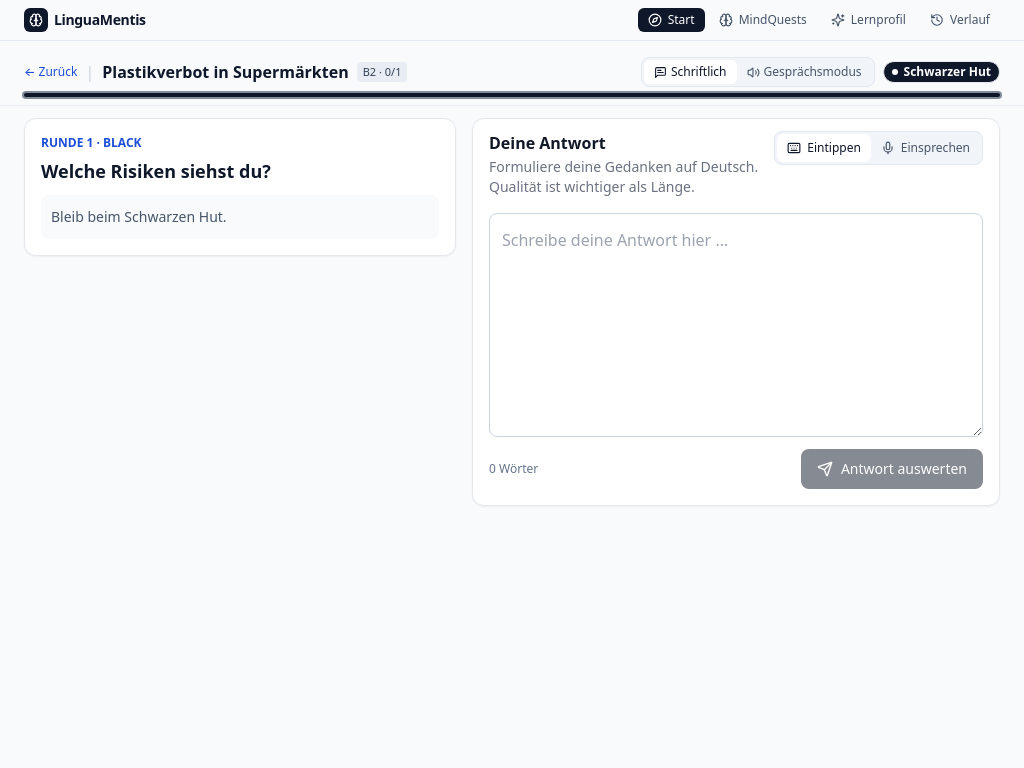
Scenario: MindQuestPage interactive flow › restores draft and displays error message when submitting a response fails
In the text box with placeholder "Schreibe deine Antwort hier …": (736, 325) left=489, top=213, right=983, bottom=437, type "Entwurf bleibt erhalten"
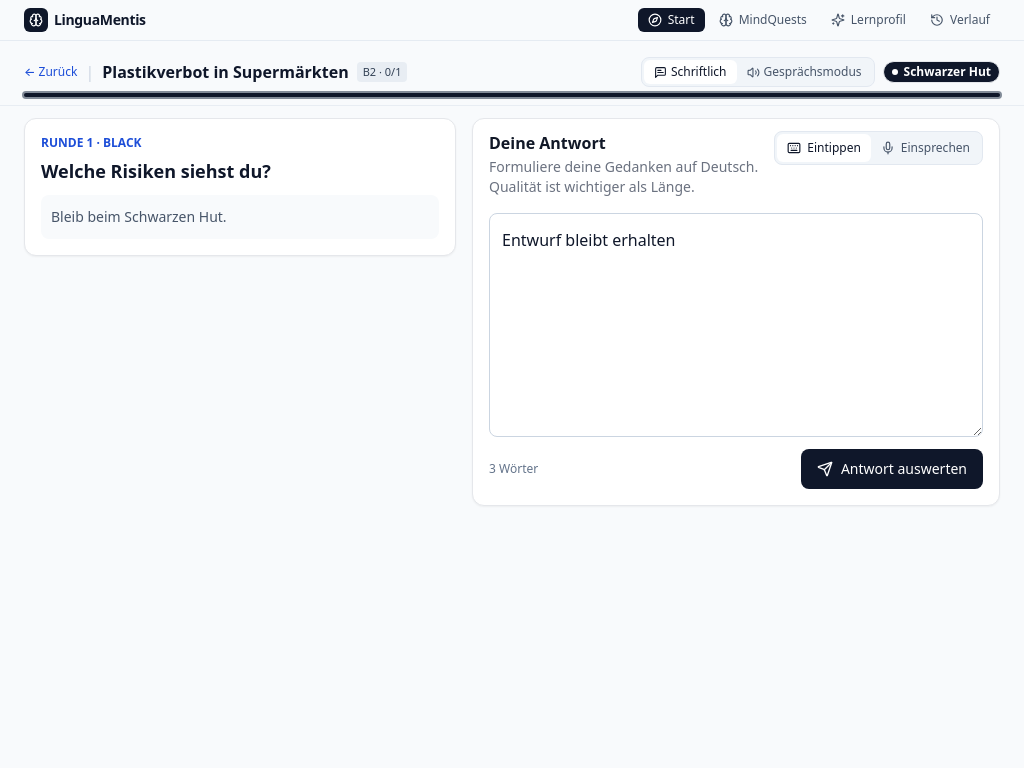
Click the button "Antwort auswerten": (892, 469) left=801, top=449, right=983, bottom=489
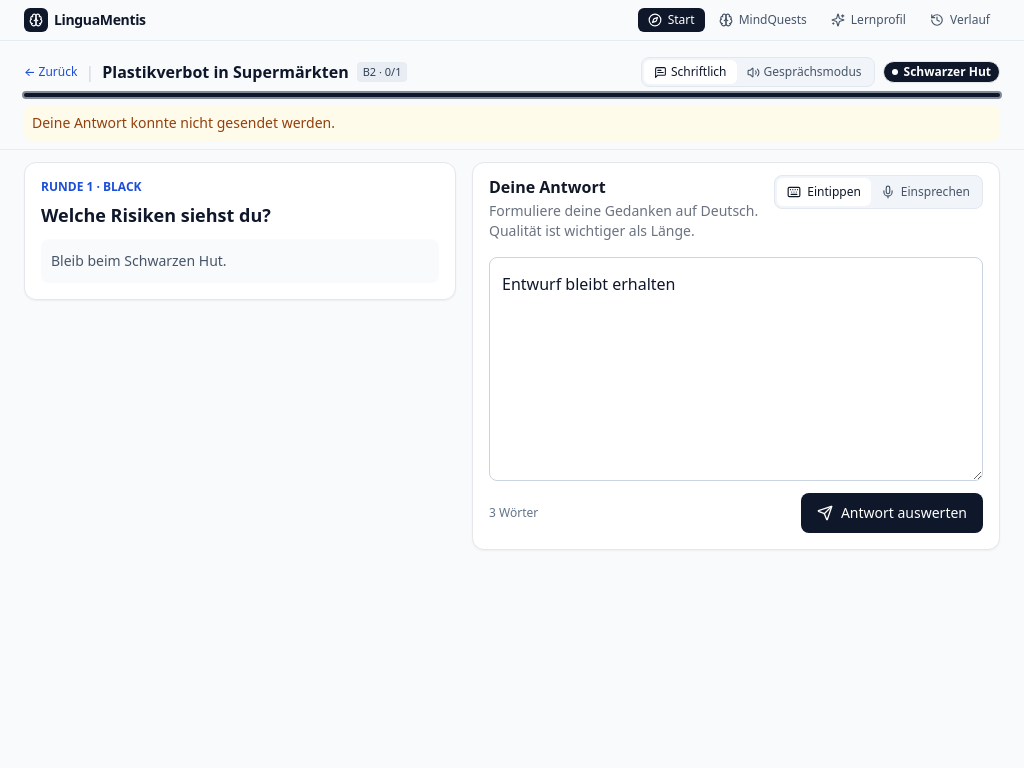
Expected: the text box with placeholder "Schreibe deine Antwort hier …" holds "Entwurf bleibt erhalten", left=489, top=257, right=983, bottom=481
Expected: the text "Deine Antwort konnte nicht gesendet werden." is shown, left=24, top=105, right=1000, bottom=141
